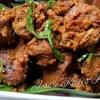rendang: (1, 1, 100, 92)
